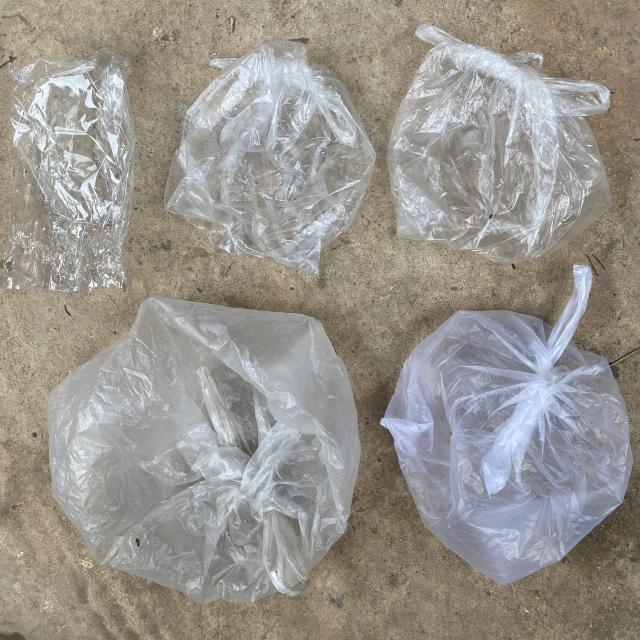Single-layer Plastic: (48, 298, 360, 604), (381, 265, 632, 584), (389, 25, 611, 262), (164, 41, 375, 275), (1, 49, 135, 291)
